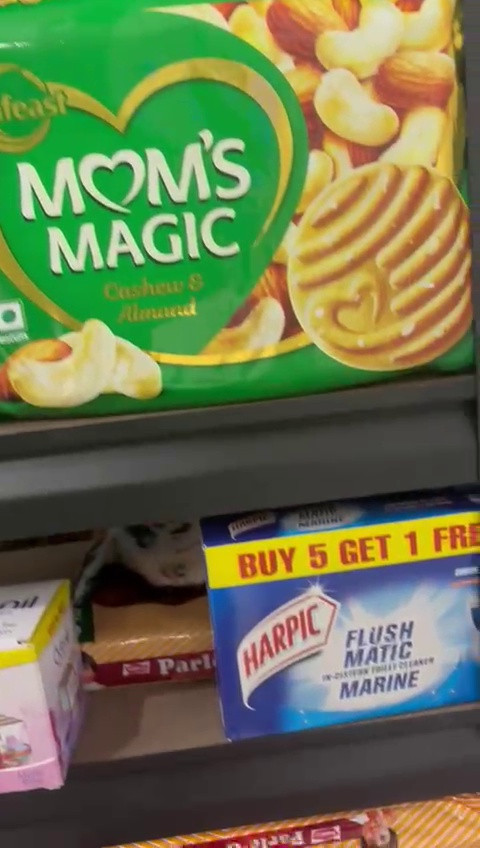Harpic: (200, 534, 480, 721)
